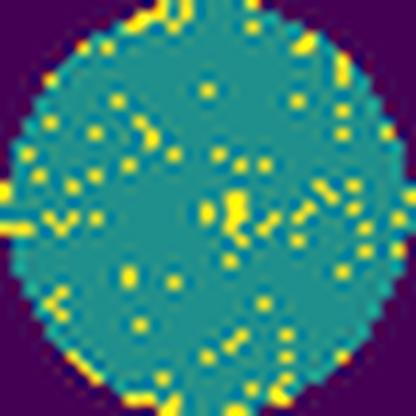Center: (218, 186, 255, 250)
